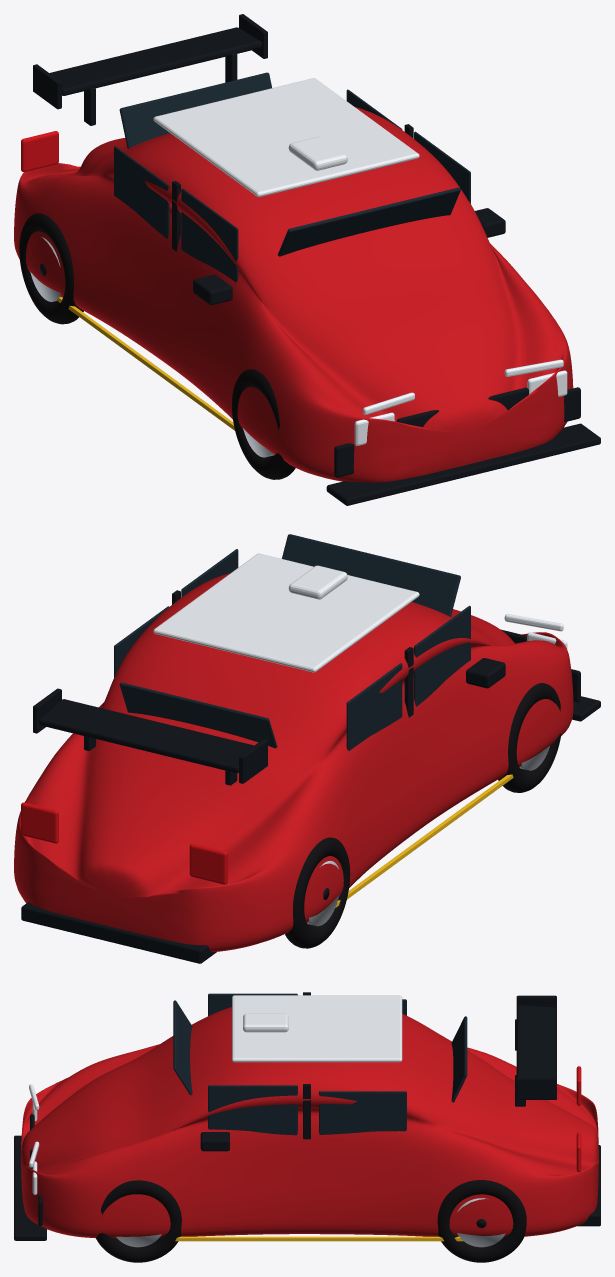
File: mjx7303-v31.glb
3 views of the same model, one above another, from view 1: azimuth 30°, elevation 25°; view 2: azimuth 150°, elevation 25°; view 3: azimuth 270°, elevation 25° (orthographic). The views are drawn at different scales.
Parts seen in each view (by area): view 1: BODY_SHELL_REFERENCE_V31, IntegratedWhiteRoof, RearWing, FrontSplitter, Windshield, RearGlass, FrontSideGlass-1, RearSideGlass-1, Tire.002, Tire.001, SillAccent-1, RoofScoop (+6 smaller); view 2: BODY_SHELL_REFERENCE_V31, IntegratedWhiteRoof, RearWing, Windshield, RearGlass, RearDiffuser, Tire.002, FrontSideGlass-1, RearSideGlass-1, Tire.001, SillAccent-1, TailLamp-1 (+8 smaller); view 3: BODY_SHELL_REFERENCE_V31, IntegratedWhiteRoof, FrontSideGlass1, RearSideGlass1, Tire, RearWing, Tire.003, SillAccent1, FrontSplitter, Windshield, RearGlass, WingPlate1 (+8 smaller).
Boxes of the visible parts, bbox=[...] form: BODY_SHELL_REFERENCE_V31: bbox=[14, 106, 573, 482]; IntegratedWhiteRoof: bbox=[153, 78, 419, 197]; RearWing: bbox=[49, 27, 261, 95]; FrontSplitter: bbox=[326, 423, 600, 505]; Windshield: bbox=[277, 187, 460, 256]; RearGlass: bbox=[119, 72, 271, 148]; FrontSideGlass-1: bbox=[181, 188, 238, 282]; RearSideGlass-1: bbox=[114, 146, 169, 238]; Tire.002: bbox=[19, 213, 83, 324]; Tire.001: bbox=[232, 369, 295, 479]; SillAccent-1: bbox=[56, 297, 234, 430]; RoofScoop: bbox=[288, 136, 347, 170]; BODY_SHELL_REFERENCE_V31: bbox=[14, 573, 573, 952]; IntegratedWhiteRoof: bbox=[153, 553, 419, 672]; RearWing: bbox=[39, 699, 253, 773]; Windshield: bbox=[282, 534, 460, 616]; RearGlass: bbox=[119, 682, 277, 748]; RearDiffuser: bbox=[21, 902, 216, 963]; Tire.002: bbox=[285, 837, 350, 948]; FrontSideGlass-1: bbox=[414, 605, 470, 706]; RearSideGlass-1: bbox=[346, 663, 402, 750]; Tire.001: bbox=[498, 683, 561, 792]; SillAccent-1: bbox=[335, 774, 513, 907]; TailLamp-1: bbox=[189, 843, 227, 884]; BODY_SHELL_REFERENCE_V31: bbox=[20, 1007, 598, 1238]; IntegratedWhiteRoof: bbox=[232, 995, 402, 1062]; FrontSideGlass1: bbox=[208, 1085, 297, 1135]; RearSideGlass1: bbox=[319, 1091, 406, 1134]; Tire: bbox=[437, 1180, 526, 1262]; RearWing: bbox=[516, 1005, 556, 1077]; Tire.003: bbox=[96, 1180, 181, 1262]; SillAccent1: bbox=[175, 1236, 463, 1241]; FrontSplitter: bbox=[14, 1135, 46, 1240]; Windshield: bbox=[173, 1000, 192, 1095]; RearGlass: bbox=[451, 1016, 467, 1102]; WingPlate1: bbox=[516, 1077, 556, 1099].
Bounding box in the file's own units: 3.02 × 2.3 × 6.41.
